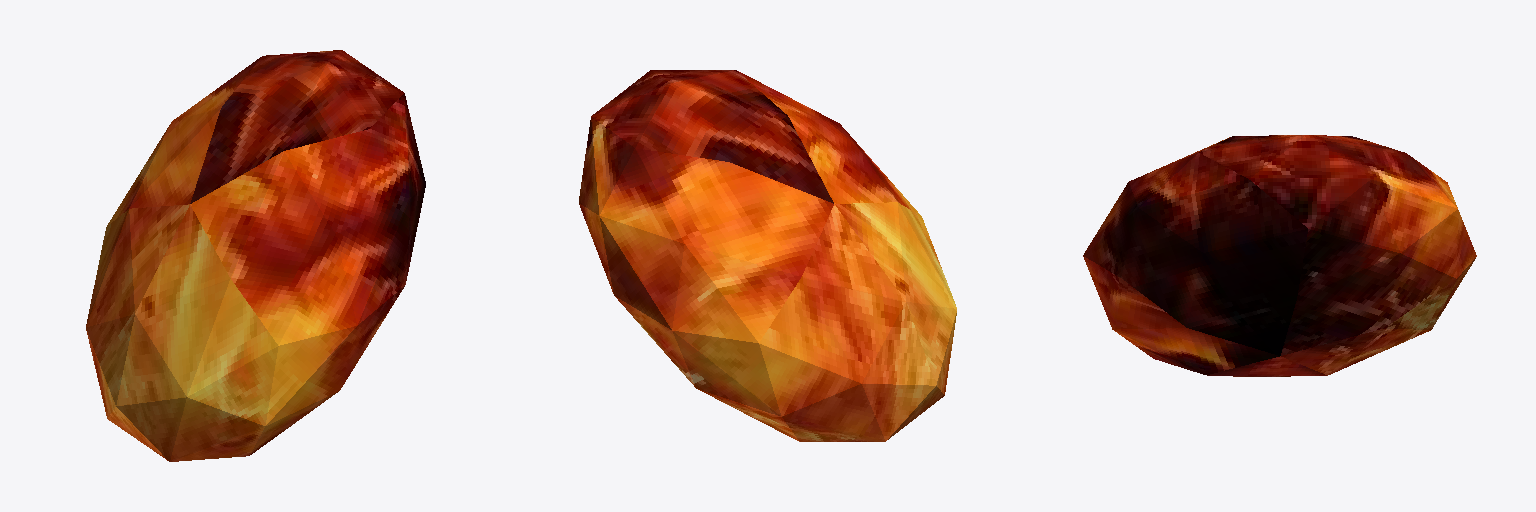
The picture shows the model from 3 angles: view 1: azimuth 30°, elevation 25°; view 2: azimuth 150°, elevation 25°; view 3: azimuth 270°, elevation 25°; orthographic projection.
Parts seen in each view (by area): view 1: ICO球.001; view 2: ICO球.001; view 3: ICO球.001.
Part boxes in pixels (x1,y1,x2,y2): ICO球.001: (86, 50, 425, 461); ICO球.001: (579, 70, 956, 441); ICO球.001: (1083, 135, 1476, 376).
Size of the model in its own units: 0.1662 by 0.1671 by 0.1842.
Materials: 1 (1 with a texture image).